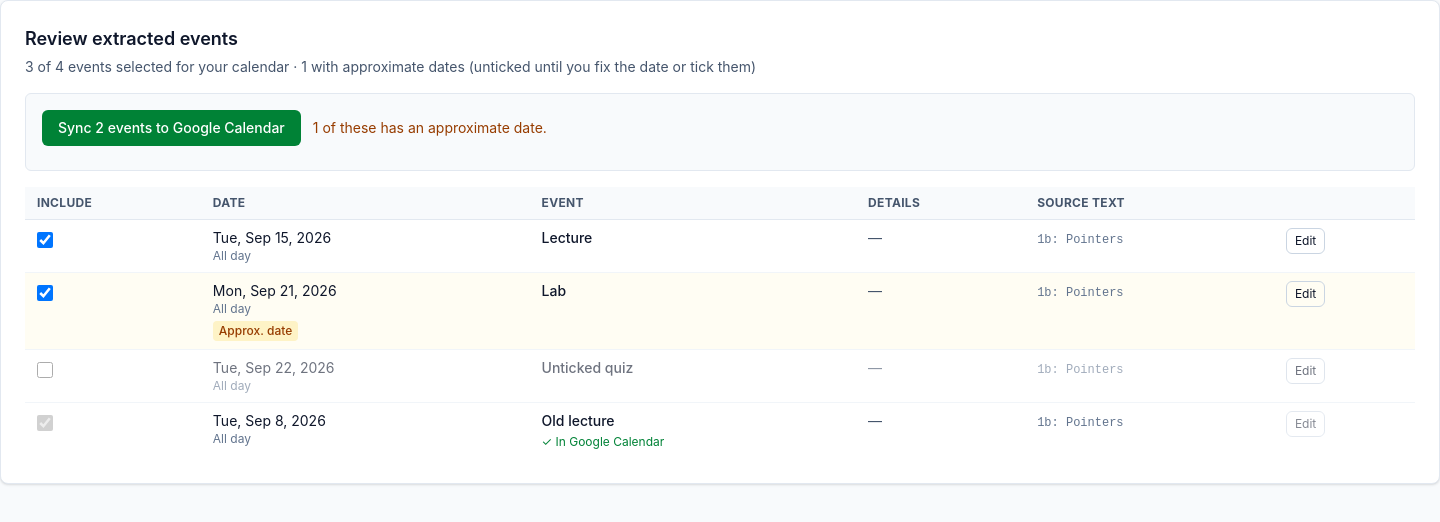
Test: syncing › shows the error and reloads the events when the sync stops part-way
The width and height of the screenshot is (1440, 522).
Click the button "Sync 2 events to Google Calendar".
click(171, 128)  # box left=42, top=110, right=301, bottom=146
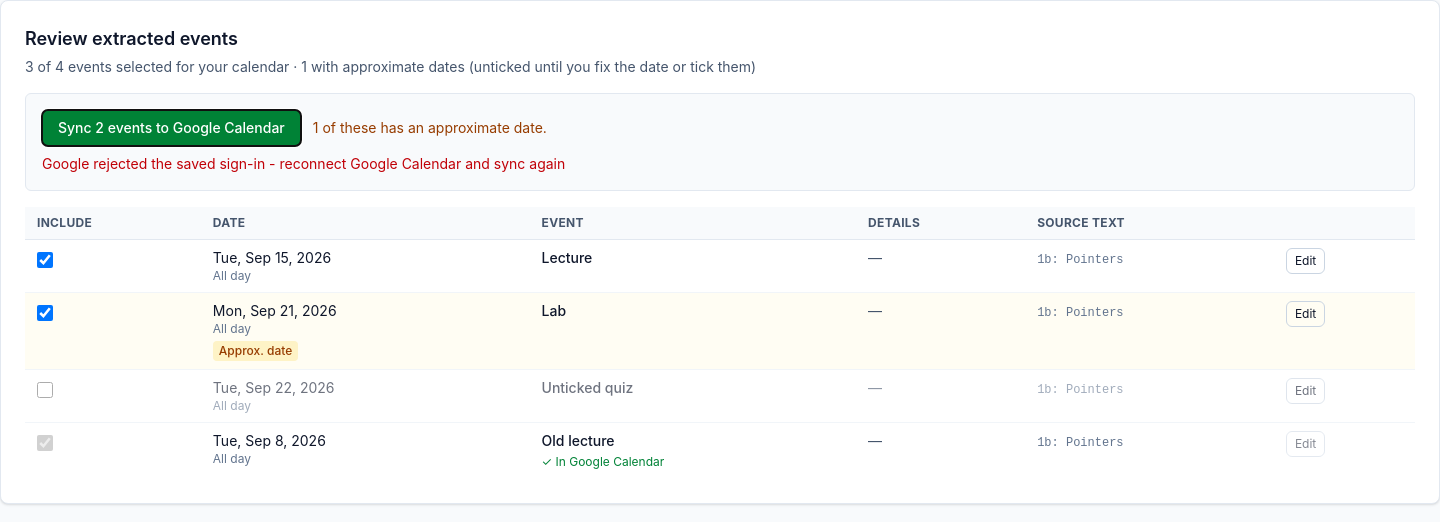
Now the message shows "reconnect Google Calendar", box left=42, top=155, right=565, bottom=172
